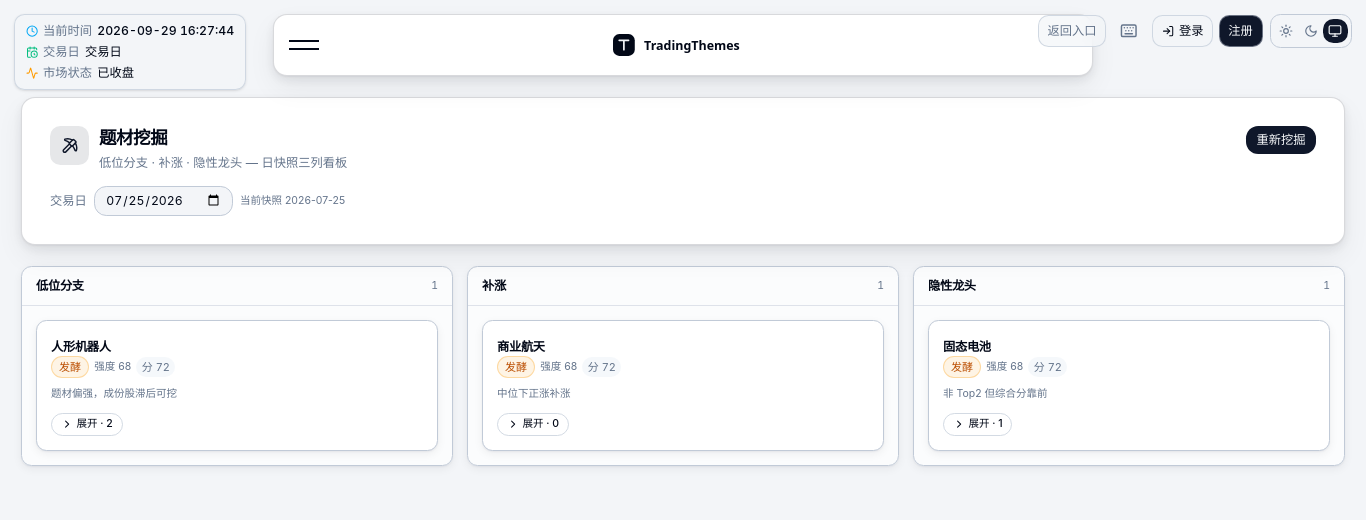
Test: ThemeMiningBoard › fetches card detail when expanding without preview members
Expected: the link "固态电池" is shown, [943,339,991,354]
Click the button "展开 · 1".
click(978, 424)  # box [943,413,1012,436]
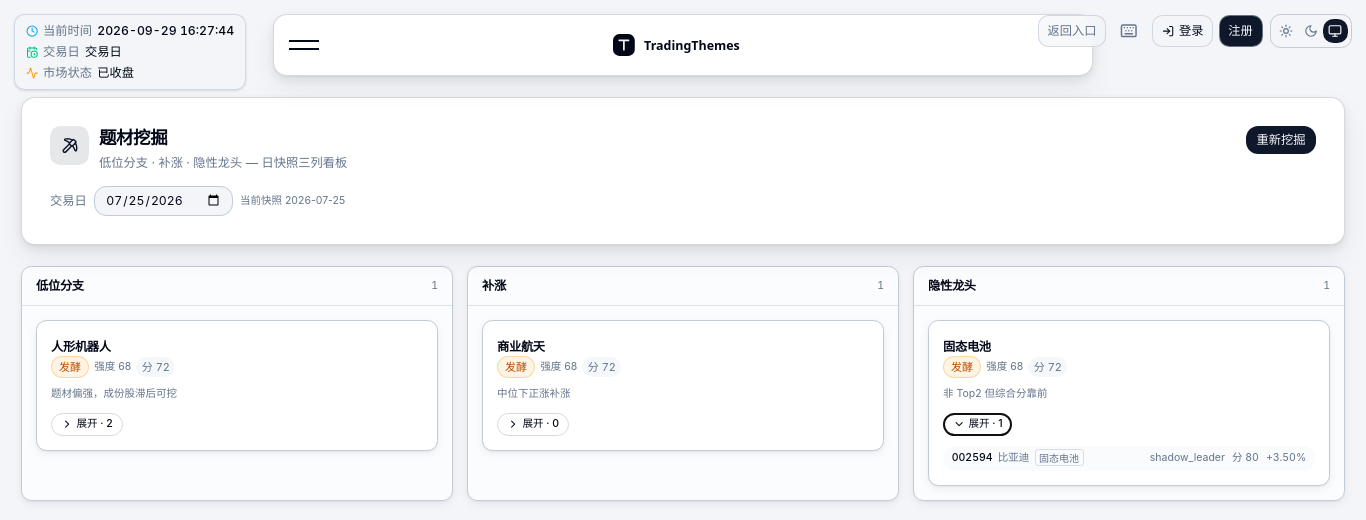
Expected: the text "002594" is shown, [952,451,993,464]
Expected: the text "比亚迪" is shown, [998,451,1029,464]
